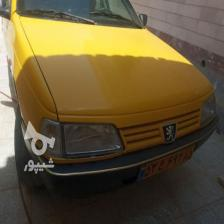plate: (135, 143, 195, 184)
